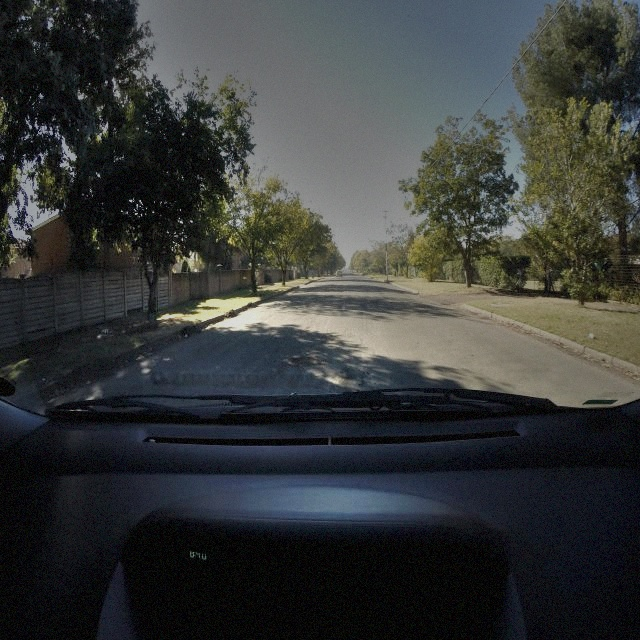pothole: (286, 351, 322, 369)
